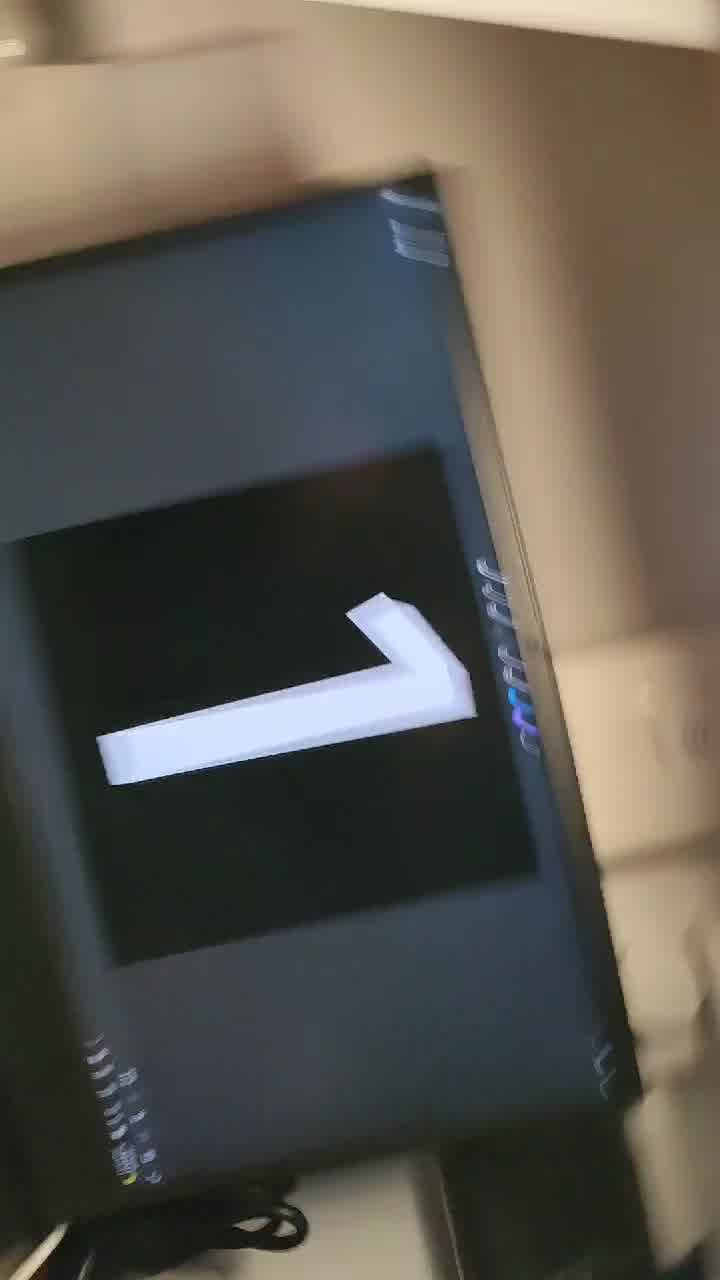one: (34, 504, 478, 996)
